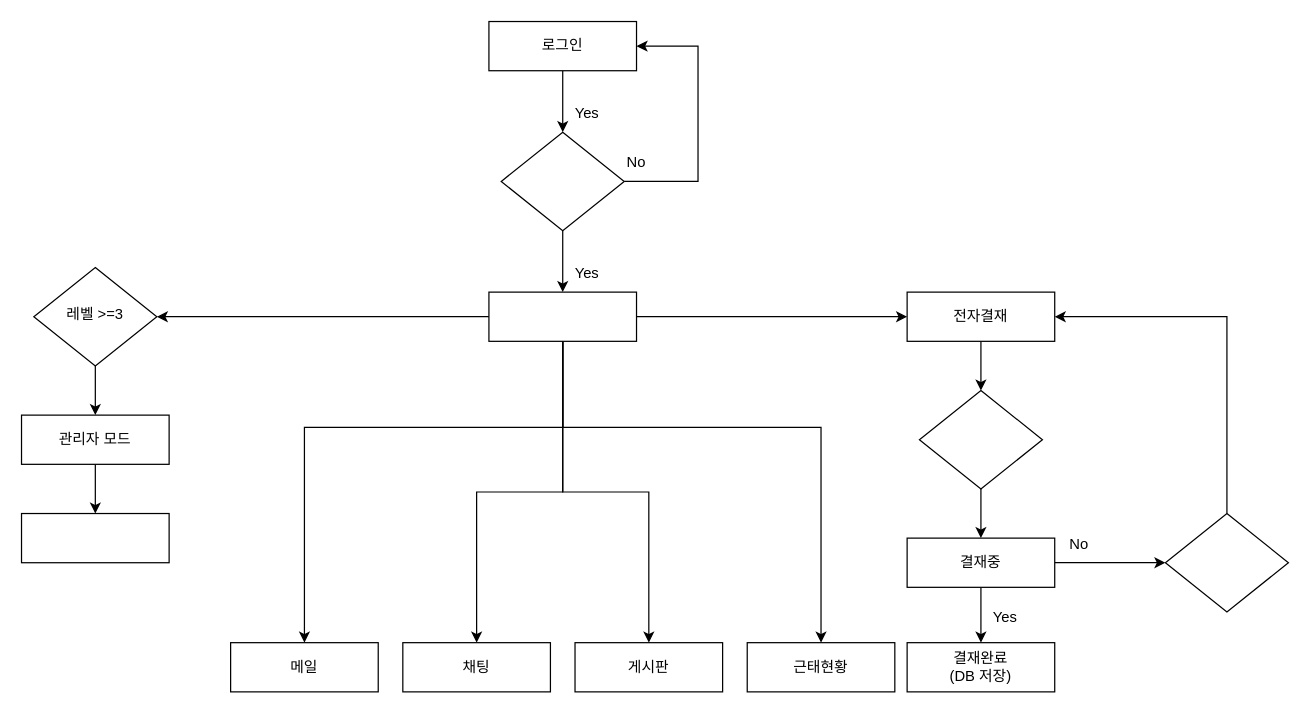
Some shapes in this 1310 by 713 pixel diagram are drawn without their labels. Each missing label, with the centre of its shape:
"거절 반려" belongs at (x=1226, y=562).
"결재 종류 선택" belongs at (x=980, y=439).
"메인" belongs at (x=562, y=316).
"아이디가 있는가?" belongs at (x=562, y=181).
"회원가입" belongs at (x=94, y=537).
